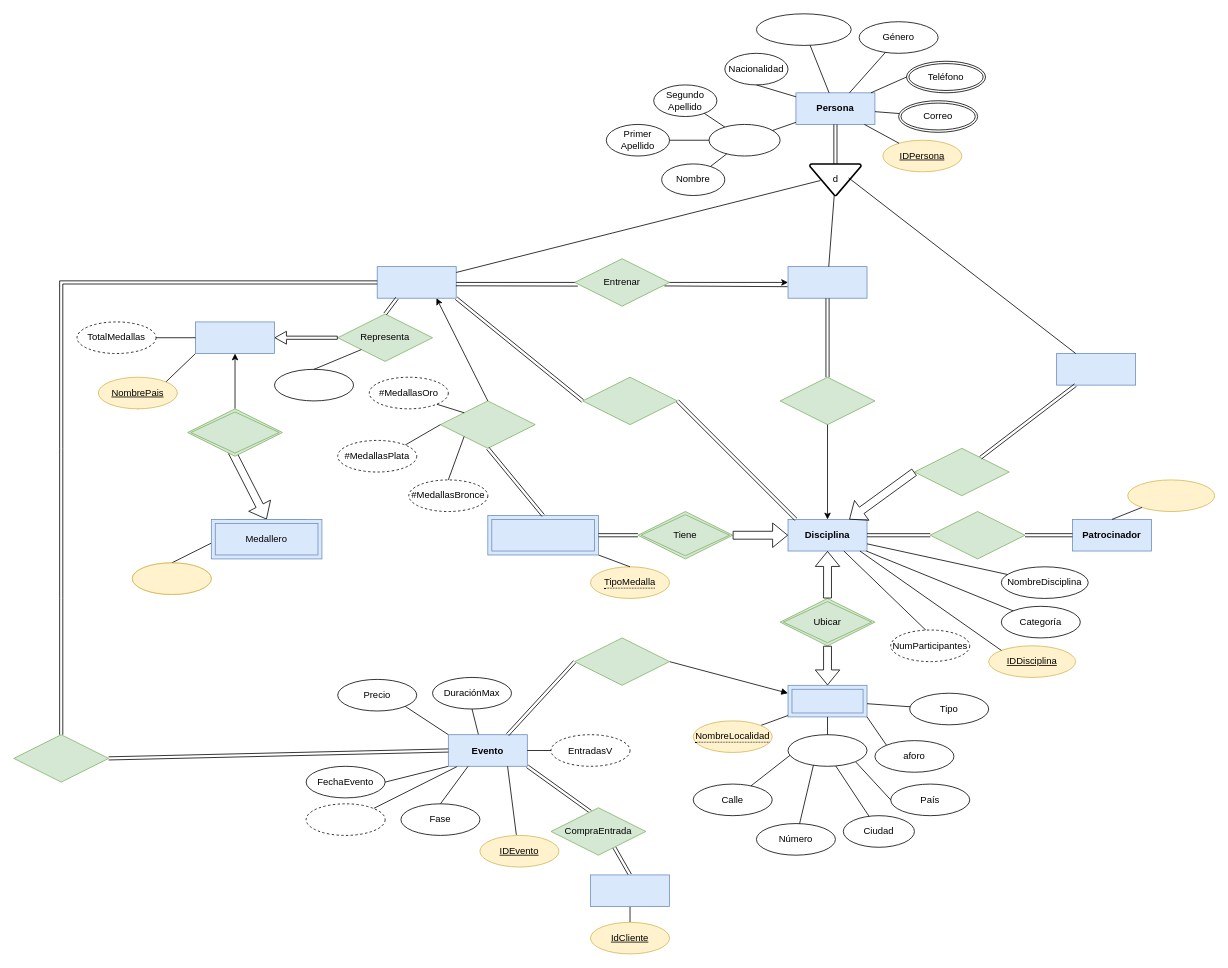
Image size: 1228x968. Some labels were removed from this diagram. The centre of each missing label's shape, as x and y in pixels:
Atleta: the point at 416,282
Cliente: the point at 630,890
Concursa: the point at 61,758
Consigue: the point at 487,424
Dirección: the point at 827,750
Entrenador: the point at 827,282
Esta: the point at 622,661
FechaNacimiento: the point at 803,29
IDMedallero: the point at 171,578
Localidad: the point at 827,701
Medalla: the point at 542,535
NombreComp: the point at 744,140
NombrePatrocinador: the point at 1171,495
Pais: the point at 235,337
Participa: the point at 629,400
Patrocina: the point at 977,535
Pertenece: the point at 827,400
PrecioTotal: the point at 345,819
Ser: the point at 234,432
Supervisa: the point at 961,472
Temporada: the point at 314,385
Árbitro: the point at 1096,369
